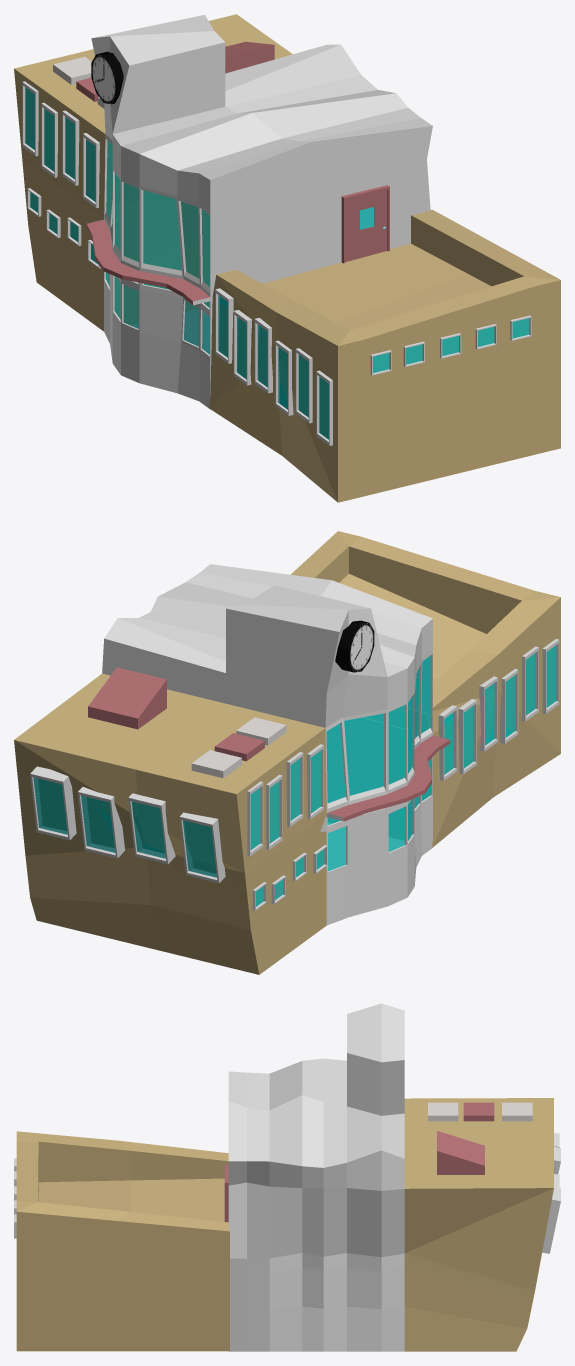
File: school.fbx
The picture shows the model from 3 angles, top to bottom: view 1: azimuth 30°, elevation 25°; view 2: azimuth 150°, elevation 25°; view 3: azimuth 270°, elevation 25°; orthographic projection. The views are drawn at different scales.
Visible parts, largest first — view 1: pCube65; view 2: pCube65; view 3: pCube65.
Boxes of the visible parts, bbox=[...] form: pCube65: bbox=[14, 14, 560, 502]; pCube65: bbox=[14, 531, 560, 974]; pCube65: bbox=[14, 1003, 560, 1351].
Size of the model in its own units: 3.66 by 3.84 by 7.47.
